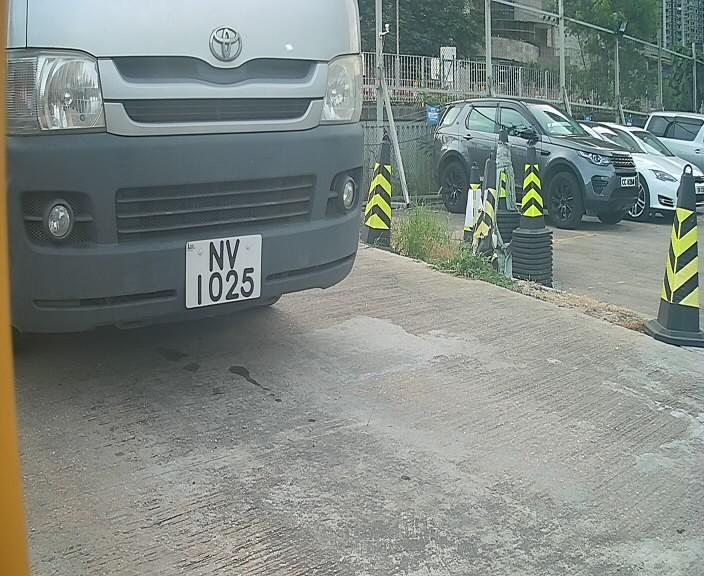License Plate: (173, 232, 274, 314)
